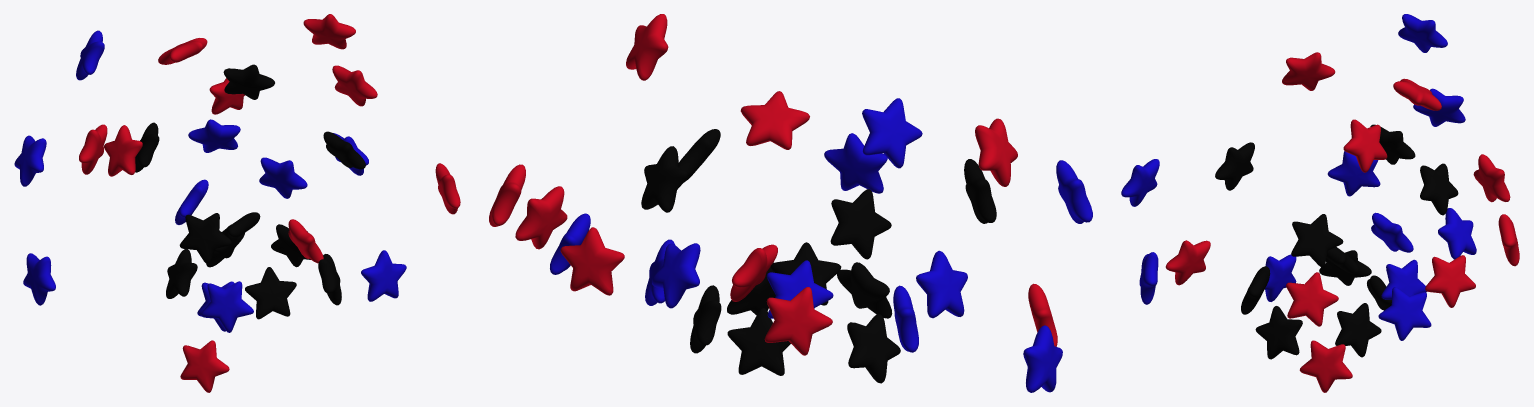
File: stars.glb
The picture shows the model from 3 angles, left to right: view 1: azimuth 30°, elevation 25°; view 2: azimuth 150°, elevation 25°; view 3: azimuth 270°, elevation 25°; orthographic projection. The views are drawn at different scales.
Parts seen in each view (by area): view 1: Star.001 (×27); view 2: Star.001 (×29); view 3: Star.001 (×29).
Boxes of the visible parts, bbox=[...] form: Star.001 (×27): bbox=[14, 14, 460, 392]; Star.001 (×29): bbox=[489, 14, 1092, 392]; Star.001 (×29): bbox=[1121, 14, 1519, 392].
Size of the model in its own units: 3.96 by 2.46 by 3.27.
